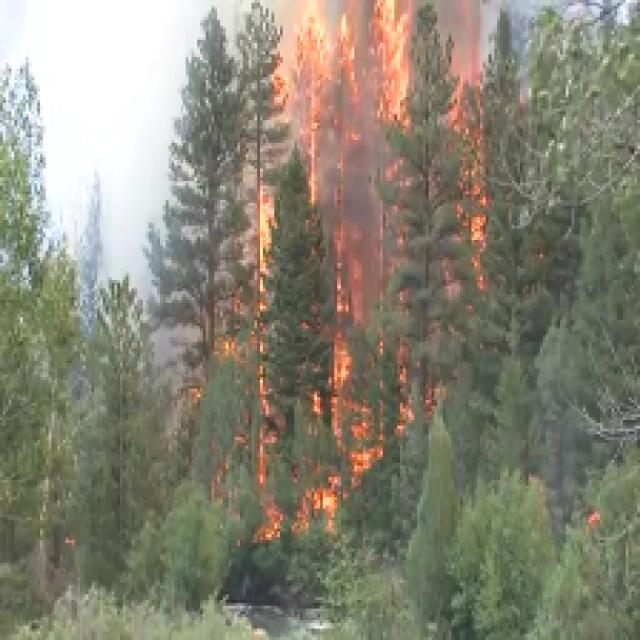Fire: (372, 1, 419, 128)
Smoke: (72, 2, 158, 234)
